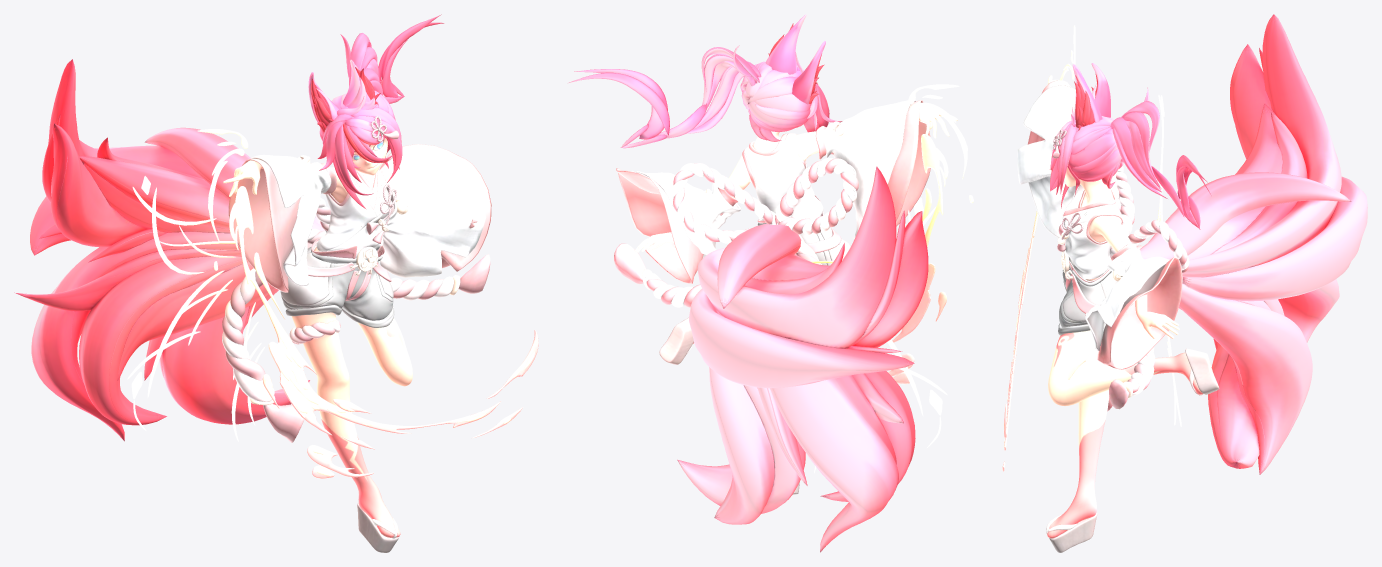
File: Impact-transformed.glb
3 views of the same model, side by side, from view 1: azimuth 30°, elevation 25°; view 2: azimuth 150°, elevation 25°; view 3: azimuth 270°, elevation 25° (orthographic). The views are drawn at different scales.
Parts seen in each view (by area): view 1: Body_Backup.003, Body_Backup.004, Body_Backup.005, Body_Backup.002; view 2: Body_Backup.003, Body_Backup.004, Body_Backup.005, Body_Backup.002; view 3: Body_Backup.003, Body_Backup.004, Body_Backup.002, Body_Backup.005.
Part boxes in pixels (left/top/right/bottom): Body_Backup.003: left=14, top=14, right=444, bottom=441; Body_Backup.004: left=222, top=116, right=491, bottom=552; Body_Backup.005: left=127, top=129, right=538, bottom=478; Body_Backup.002: left=223, top=138, right=412, bottom=537; Body_Backup.003: left=569, top=14, right=928, bottom=552; Body_Backup.004: left=614, top=100, right=930, bottom=494; Body_Backup.005: left=811, top=84, right=973, bottom=473; Body_Backup.002: left=634, top=105, right=957, bottom=343; Body_Backup.003: left=1050, top=14, right=1367, bottom=474; Body_Backup.004: left=1017, top=80, right=1219, bottom=552; Body_Backup.002: left=1047, top=75, right=1202, bottom=538; Body_Backup.005: left=1002, top=25, right=1181, bottom=471.
Size of the model in its own units: 12.73 by 15.65 by 10.93.
